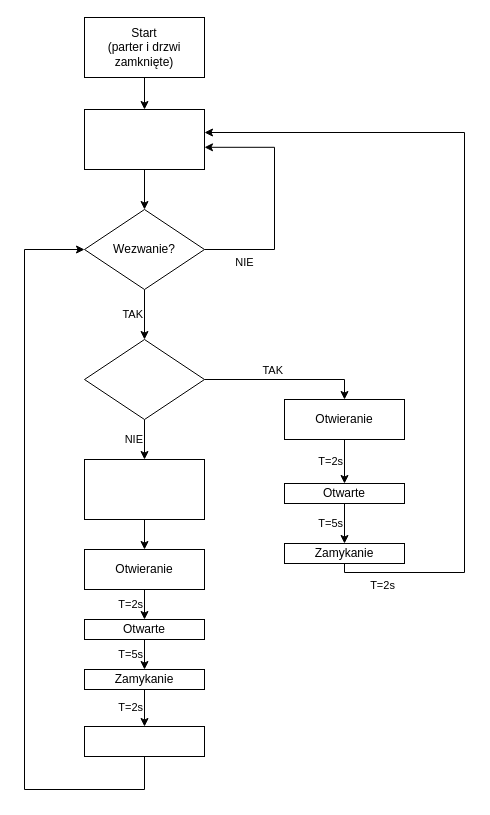
The diagram is 490 pixels wide and 815 high, and some of its shapes have lost their labels. Each missing label, with the box of its shape:
Jazda na zadane piętro: (84, 458, 204, 520)
Obecne piętro Drzwi zamknięte: (84, 108, 204, 170)
To samo piętro?: (84, 338, 204, 420)
Zamknięte: (84, 726, 204, 756)
